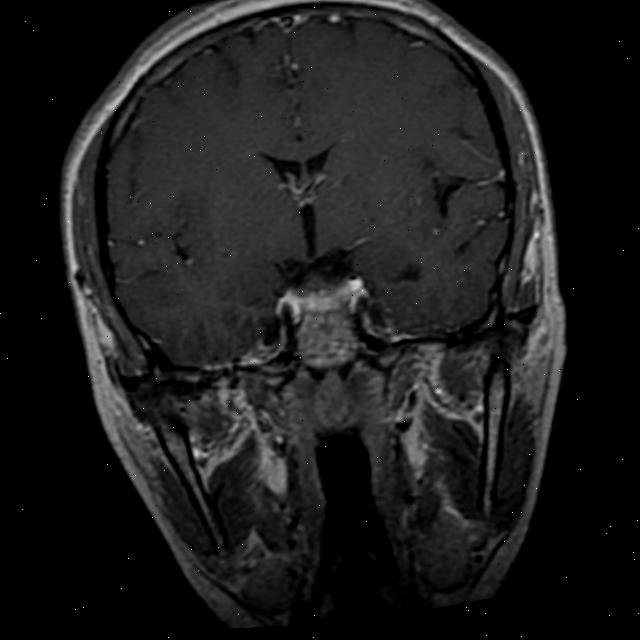Pituitary: (284, 261, 359, 374)
